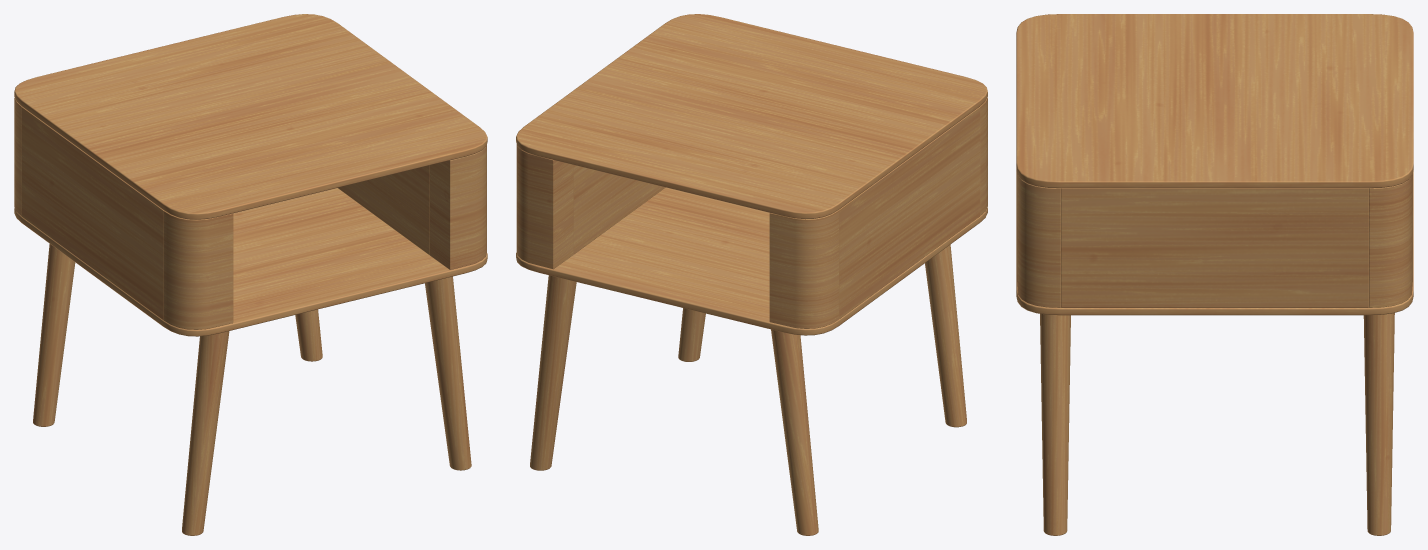
The model's file is end_table.obj.
The picture shows the model from 3 angles, left to right: view 1: azimuth 30°, elevation 25°; view 2: azimuth 150°, elevation 25°; view 3: azimuth 270°, elevation 25°; orthographic projection. The views are drawn at different scales.
Parts seen in each view (by area): view 1: end_table; view 2: end_table; view 3: end_table.
Boxes of the visible parts, left/top/right/bottom form: end_table: left=14, top=14, right=487, bottom=535; end_table: left=516, top=14, right=987, bottom=535; end_table: left=1016, top=14, right=1413, bottom=535.
Size of the model in its own units: 50 by 50.14 by 50.
1 material, 1 textured.
